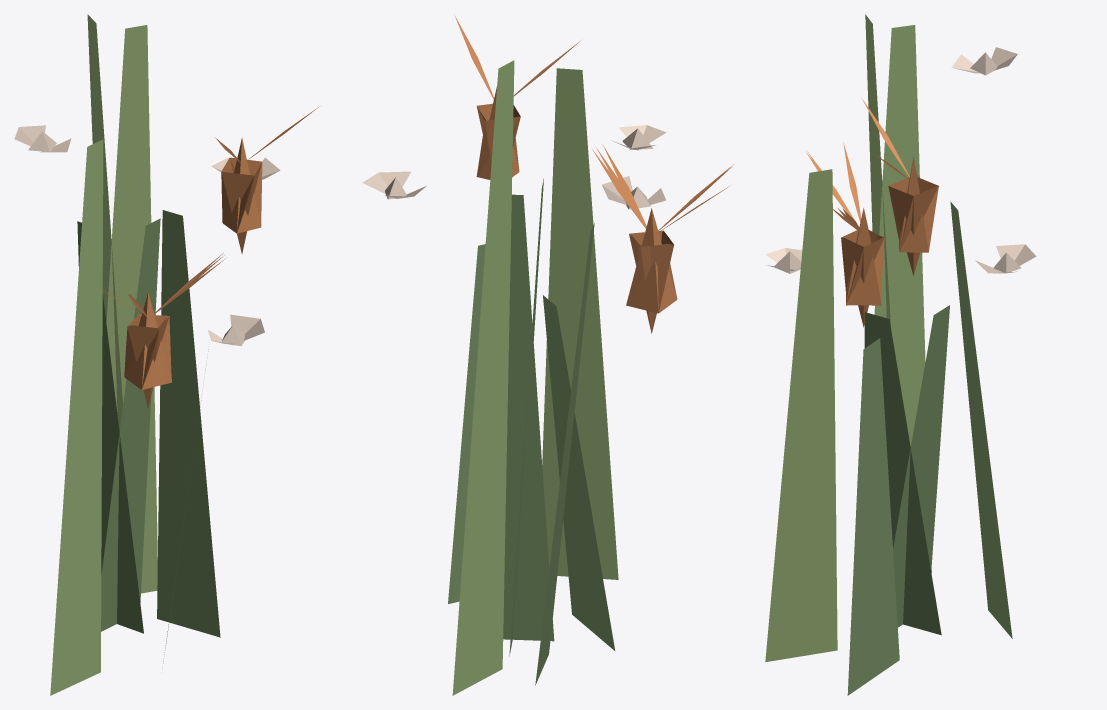
Rendered from nong.su__bloom.glb.
3 renders of one model, left to right at view 1: azimuth 30°, elevation 25°; view 2: azimuth 150°, elevation 25°; view 3: azimuth 270°, elevation 25°, orthographic. The views are drawn at different scales.
Parts seen in each view (by area): view 1: nong.su__bloom; view 2: nong.su__bloom; view 3: nong.su__bloom.
Part boxes in pixels (x1,y1,x2,y2): nong.su__bloom: (14,14,318,695); nong.su__bloom: (362,15,733,695); nong.su__bloom: (765,14,1036,695).
Size of the model in its own units: 0.4997 by 0.9887 by 0.4913.
